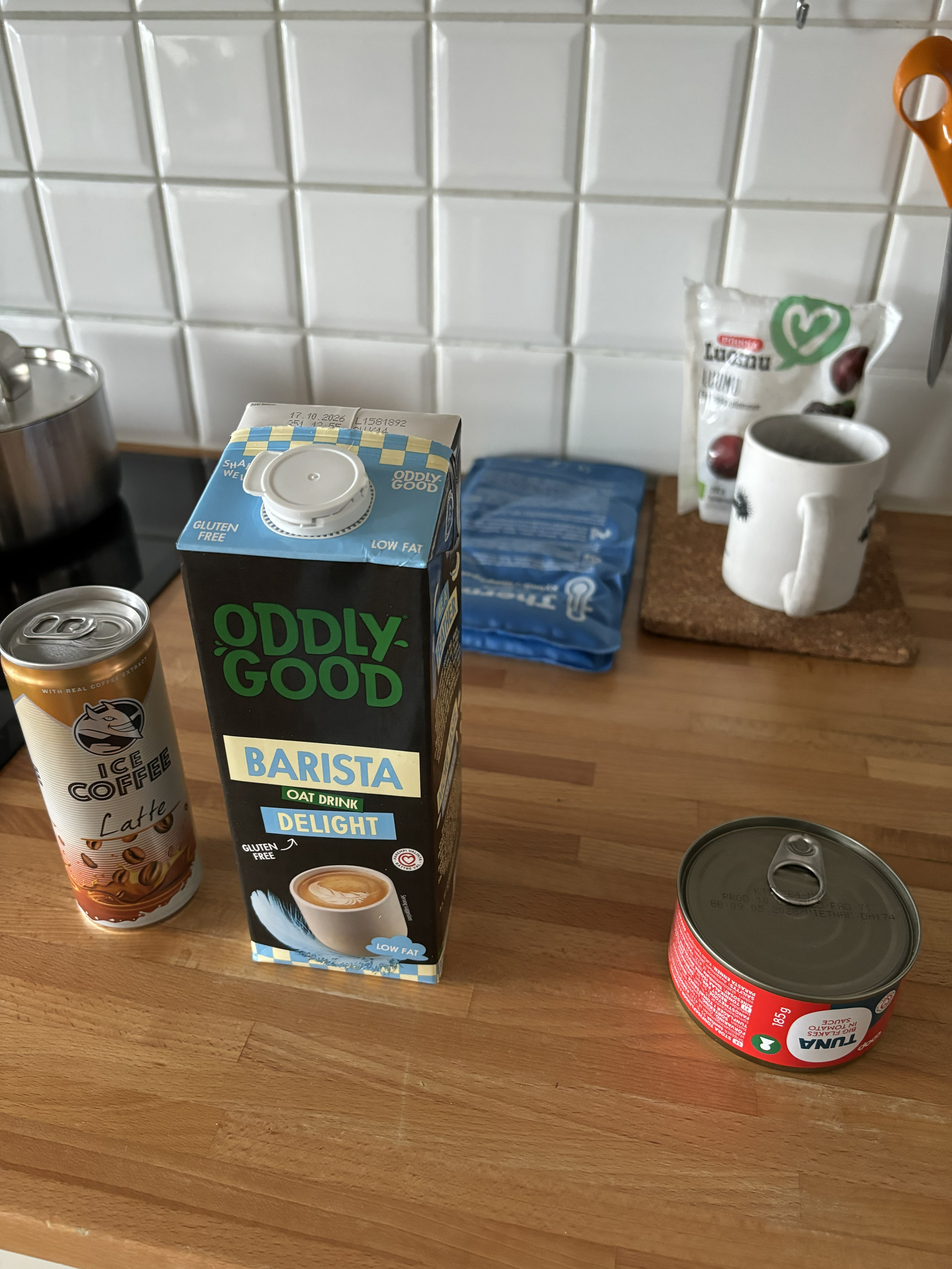Dryckeskartong: (176, 399, 462, 992)
Konservburk: (671, 812, 923, 1076)
Pantburk: (18, 570, 164, 933)
